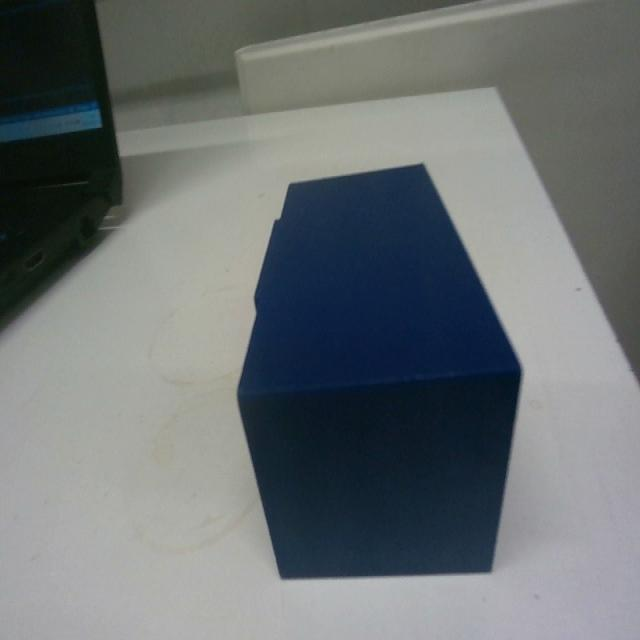Blue Cuboid: (234, 159, 524, 580)
